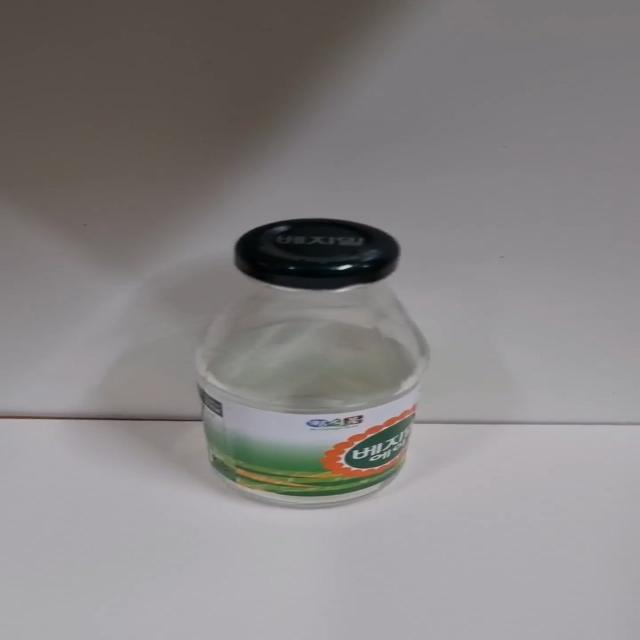Glass: (200, 215, 436, 507)
